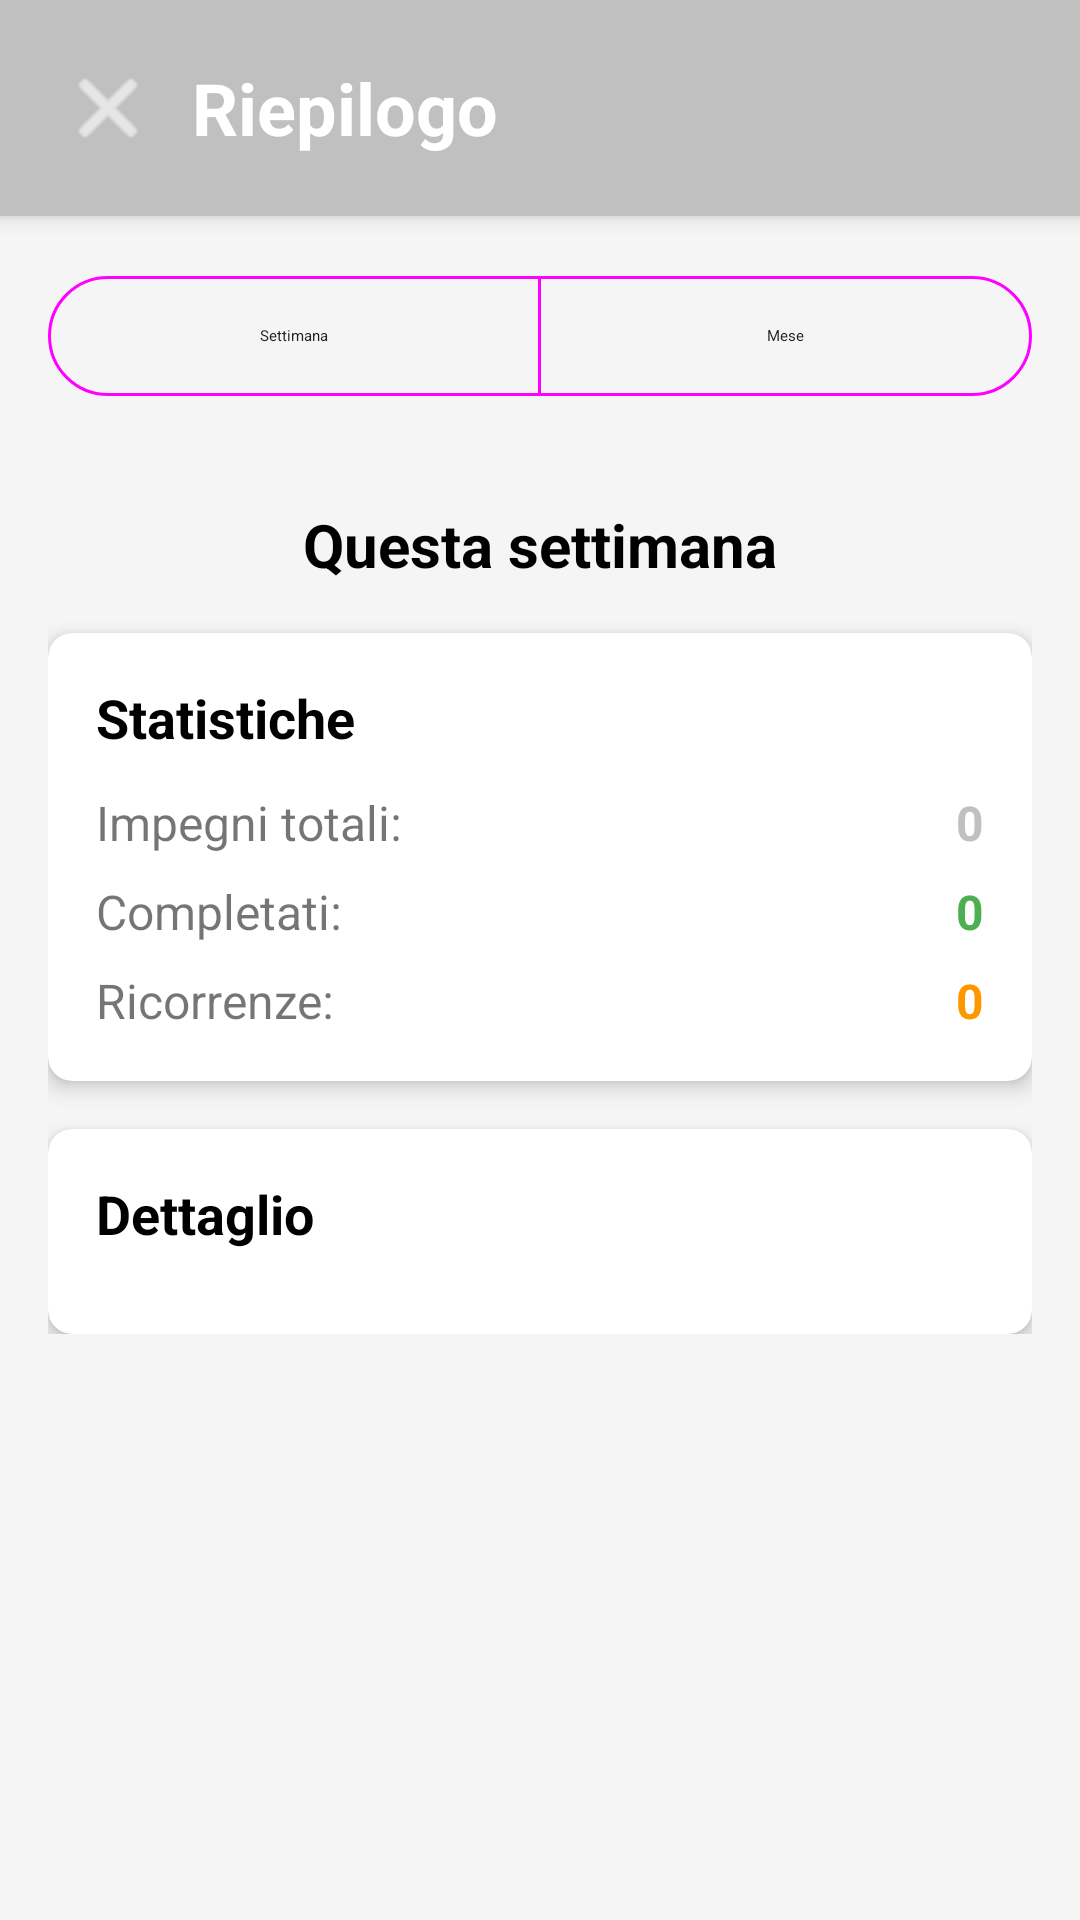

Icon bounding boxes for this 1080*1920 phone screenshot, format (x1, y1, x2, y2):
Chiudi: (80, 80, 136, 136)
